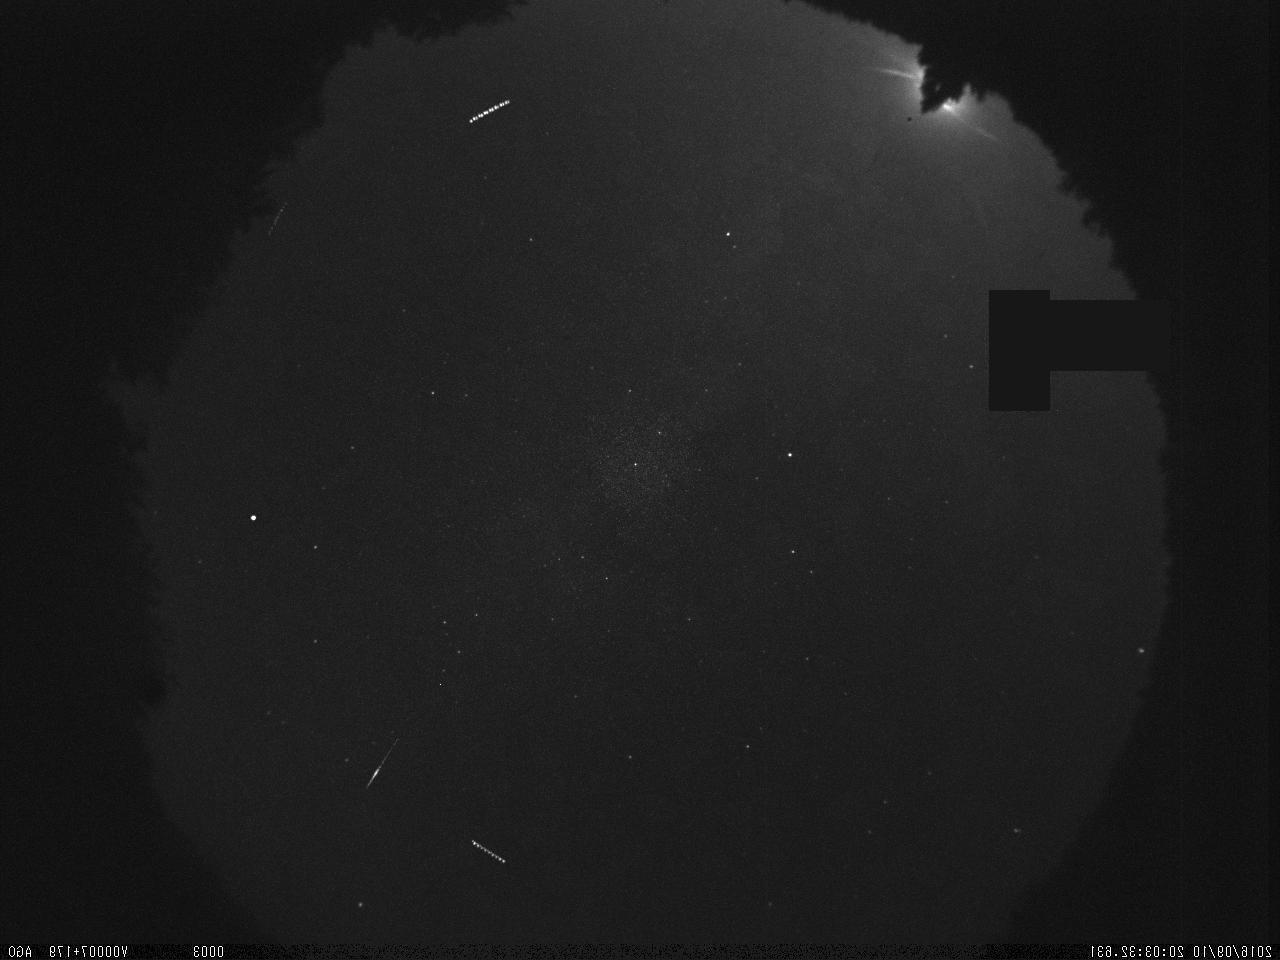meteor: (354, 729, 408, 795)
satelite: (464, 828, 525, 879), (461, 91, 515, 132)
